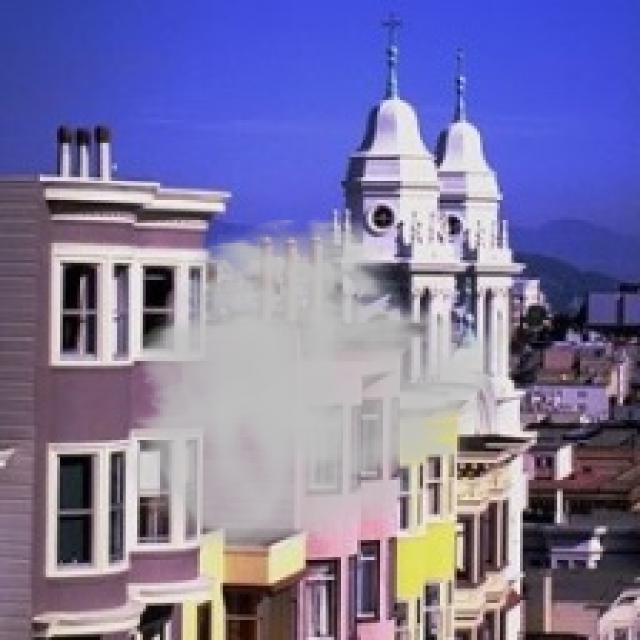Smoke: (117, 214, 523, 557)
